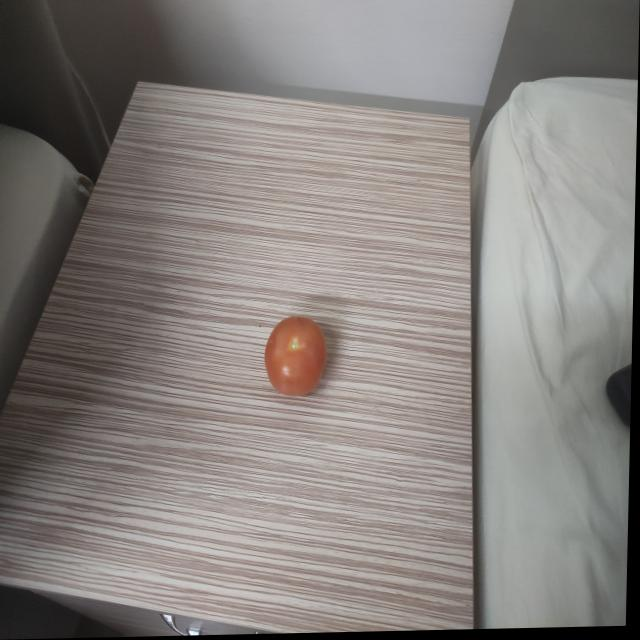sari: (260, 306, 345, 407)
